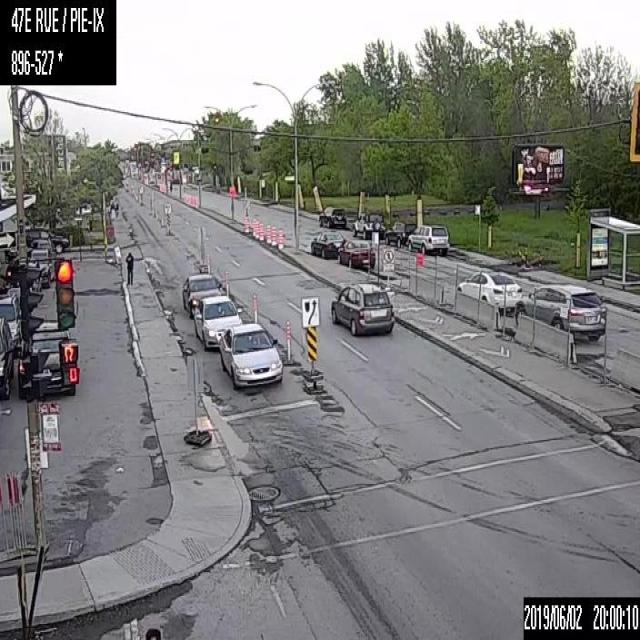construction: (286, 321, 290, 360), (271, 225, 277, 247), (278, 228, 284, 249), (258, 223, 264, 242), (265, 223, 270, 245), (254, 220, 259, 238), (253, 294, 256, 322), (206, 256, 210, 272), (226, 283, 229, 296)
pedestrian: (125, 252, 133, 285), (110, 200, 115, 218), (115, 200, 118, 217)
vehicle: (515, 282, 606, 341), (17, 318, 76, 394), (216, 321, 282, 388), (328, 281, 394, 335), (455, 269, 522, 311), (193, 293, 243, 349), (182, 271, 220, 316), (2, 257, 40, 296), (405, 224, 449, 254), (0, 315, 14, 401), (337, 238, 375, 268), (25, 227, 68, 253), (0, 293, 19, 350), (27, 247, 53, 286), (310, 230, 346, 258), (351, 210, 386, 238), (383, 219, 416, 246), (317, 204, 346, 228), (31, 238, 52, 261)
